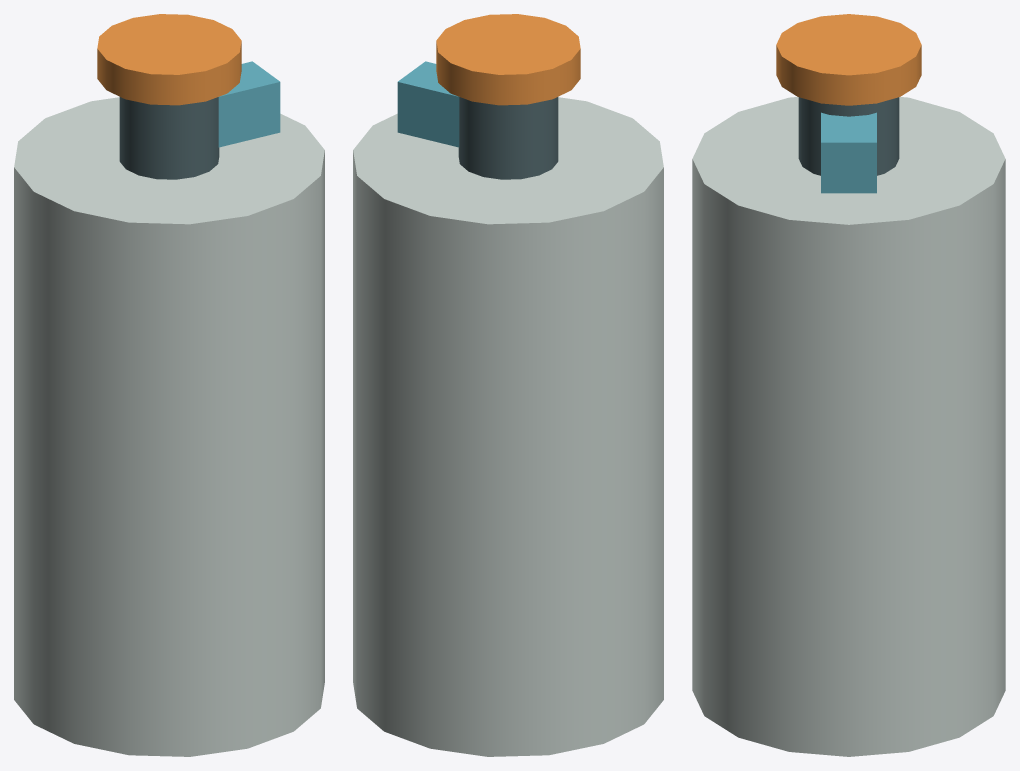
Rendered from air-reserve-cylinder.glb.
3 views of the same model, side by side, from view 1: azimuth 30°, elevation 25°; view 2: azimuth 150°, elevation 25°; view 3: azimuth 270°, elevation 25° (orthographic).
Visible parts, largest first — view 1: pressure_body, valve, neck, connector; view 2: pressure_body, valve, neck, connector; view 3: pressure_body, valve, connector, neck.
Part boxes in pixels (x1,y1,x2,y2): pressure_body: (14, 97, 324, 756); valve: (97, 14, 241, 105); neck: (119, 97, 219, 179); connector: (218, 61, 280, 147); pressure_body: (353, 97, 663, 756); valve: (436, 14, 580, 105); neck: (458, 97, 558, 179); connector: (397, 61, 459, 147); pressure_body: (692, 97, 1005, 756); valve: (776, 14, 921, 105); connector: (821, 112, 876, 193); neck: (798, 97, 899, 175).
Size of the model in its own units: 0.56 by 1.27 by 0.56.
